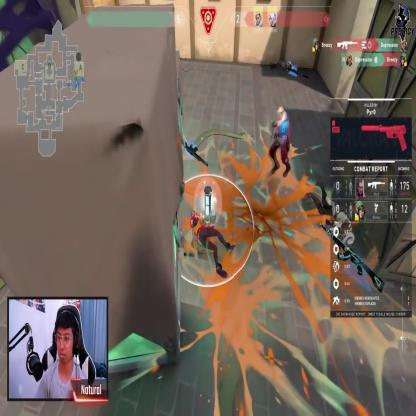enemy: (269, 104, 292, 182)
enemy_head: (278, 106, 284, 120)
